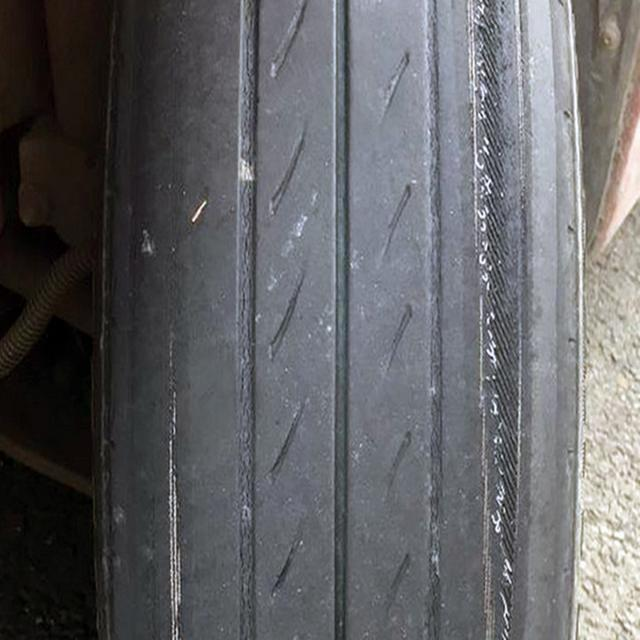Flat spots: (105, 0, 486, 639)
